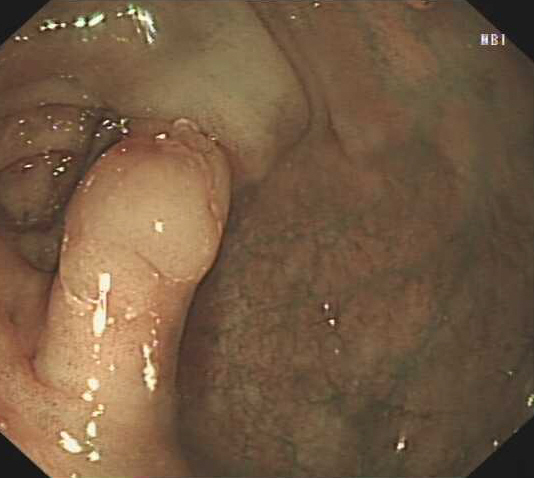others: (60, 126, 234, 308)
